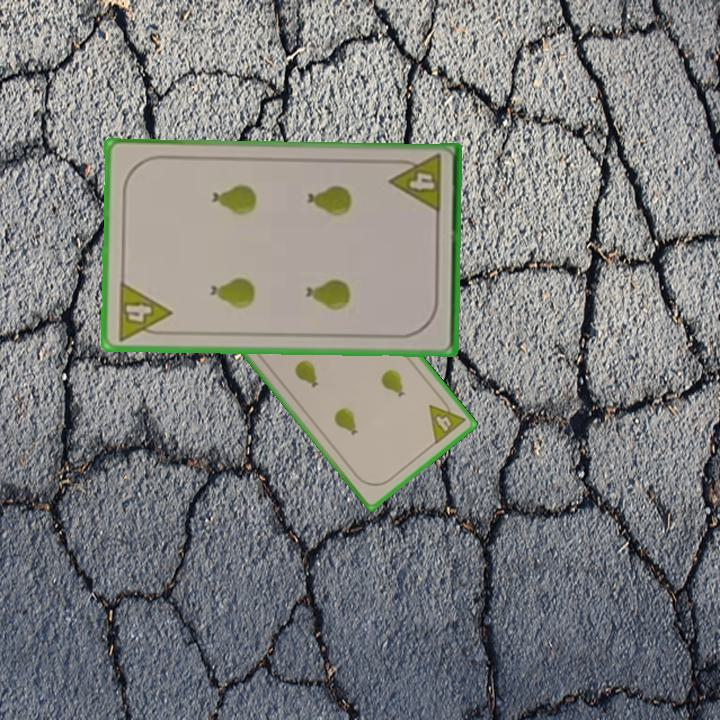4p: (114, 278, 174, 343), (387, 151, 445, 216), (425, 393, 468, 447)
